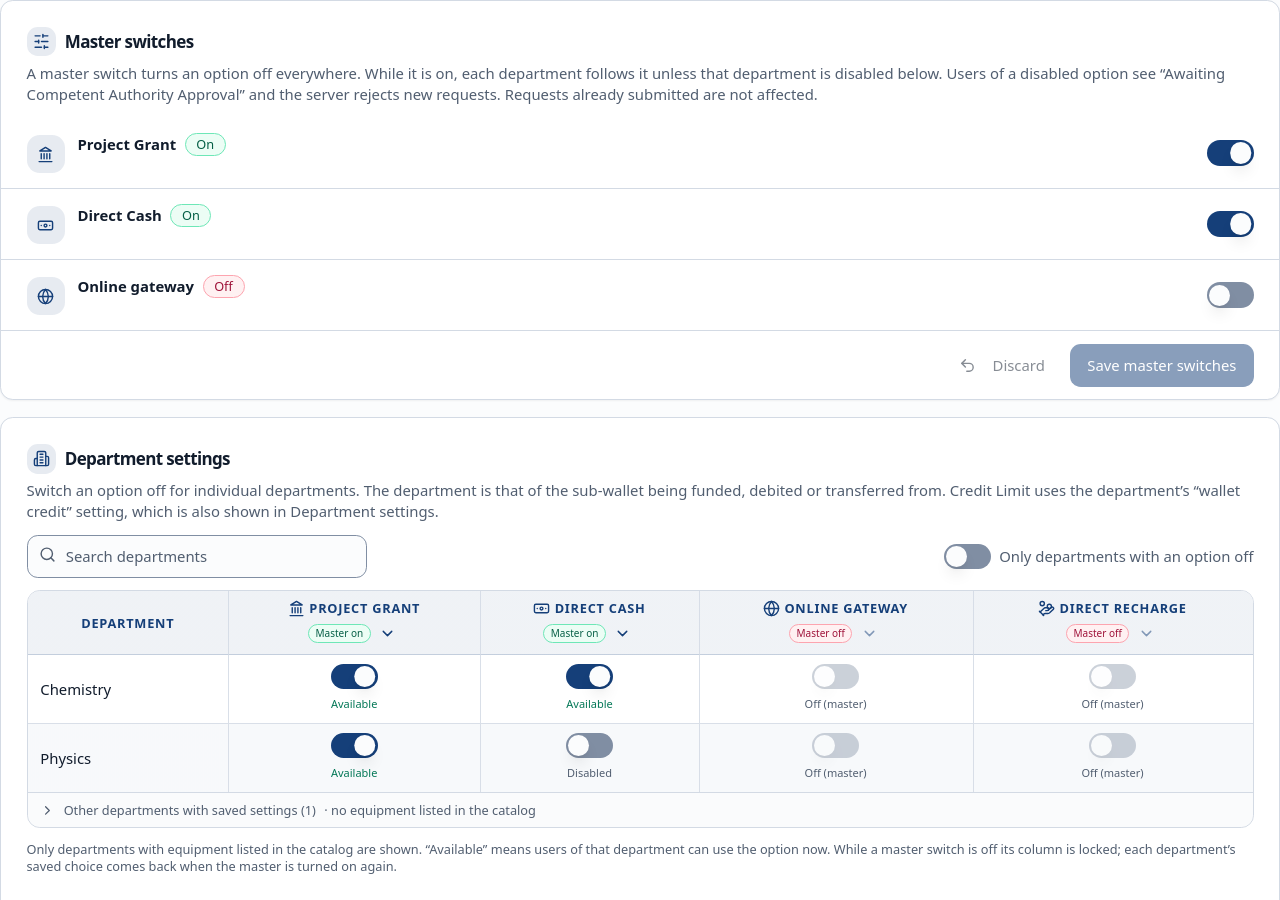
Test: Wallet payment modes – department settings › lists catalog departments and keeps saved-only ones in a collapsed group
Expected: the column heading "Chemistry" is shown, left=28, top=655, right=228, bottom=724
Expected: the column heading "Physics" is shown, left=28, top=724, right=228, bottom=793
Click the button "Other departments with saved settings (1)" at (288, 810), box left=28, top=793, right=549, bottom=827
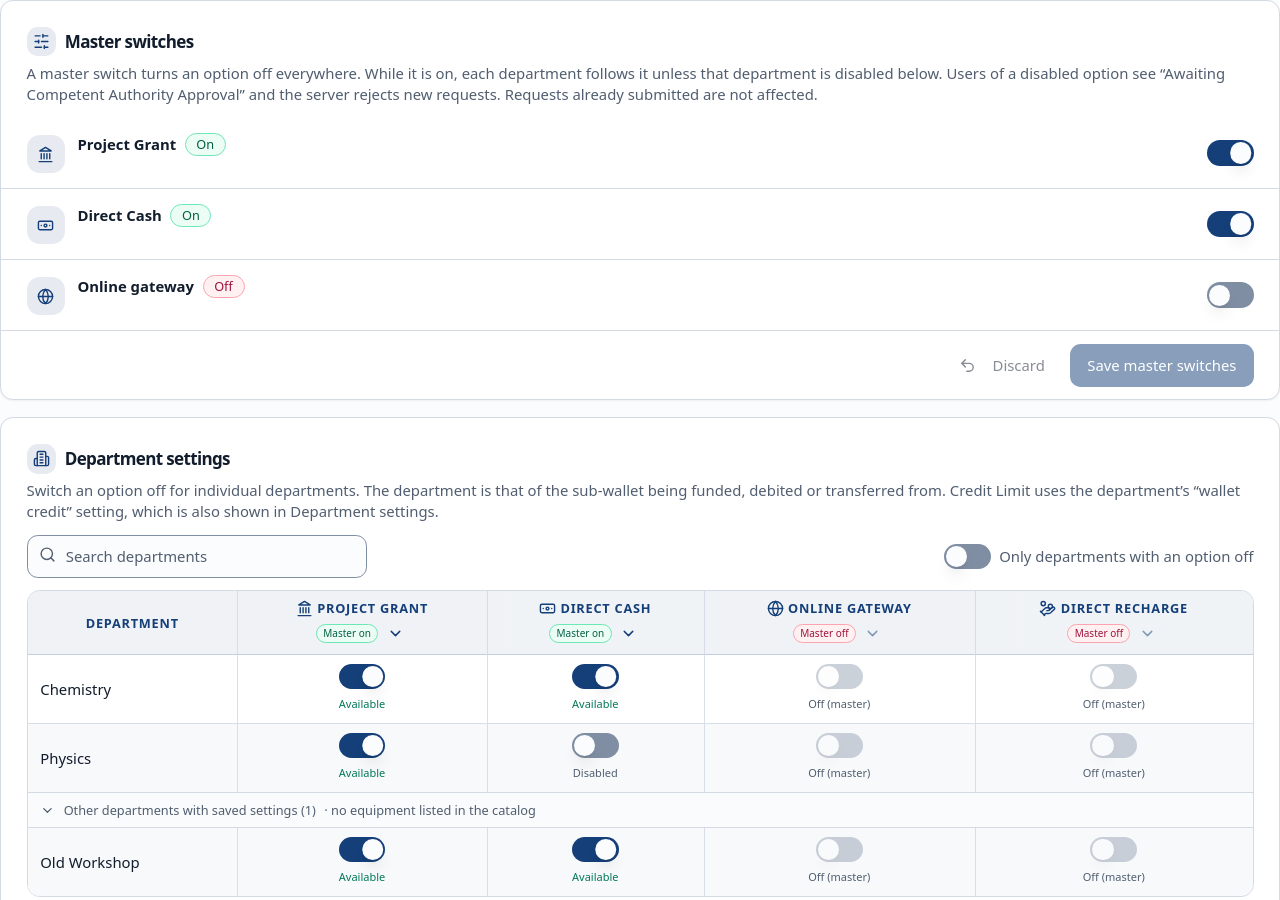
Expected: the column heading "Old Workshop" is shown, left=28, top=828, right=237, bottom=896
